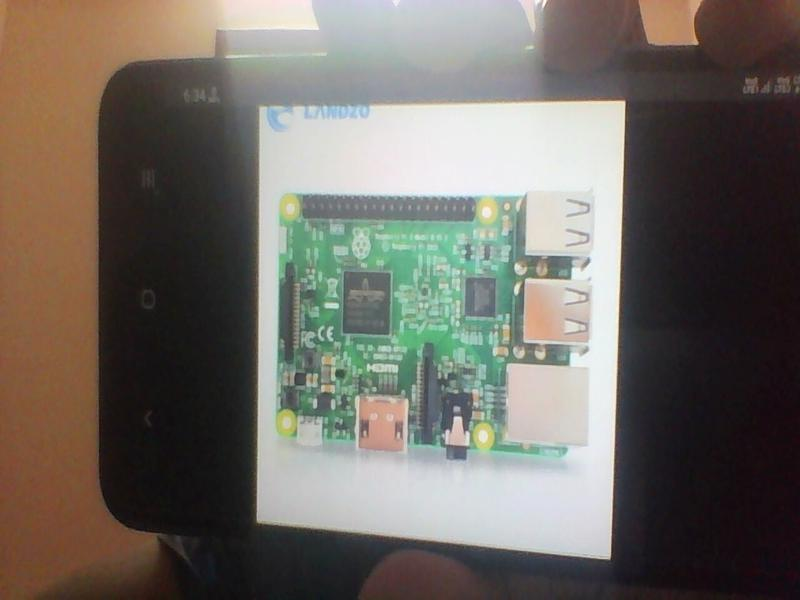aud: (443, 389, 474, 463)
eth: (506, 362, 592, 452)
usb: (516, 278, 596, 350), (519, 190, 597, 257)
